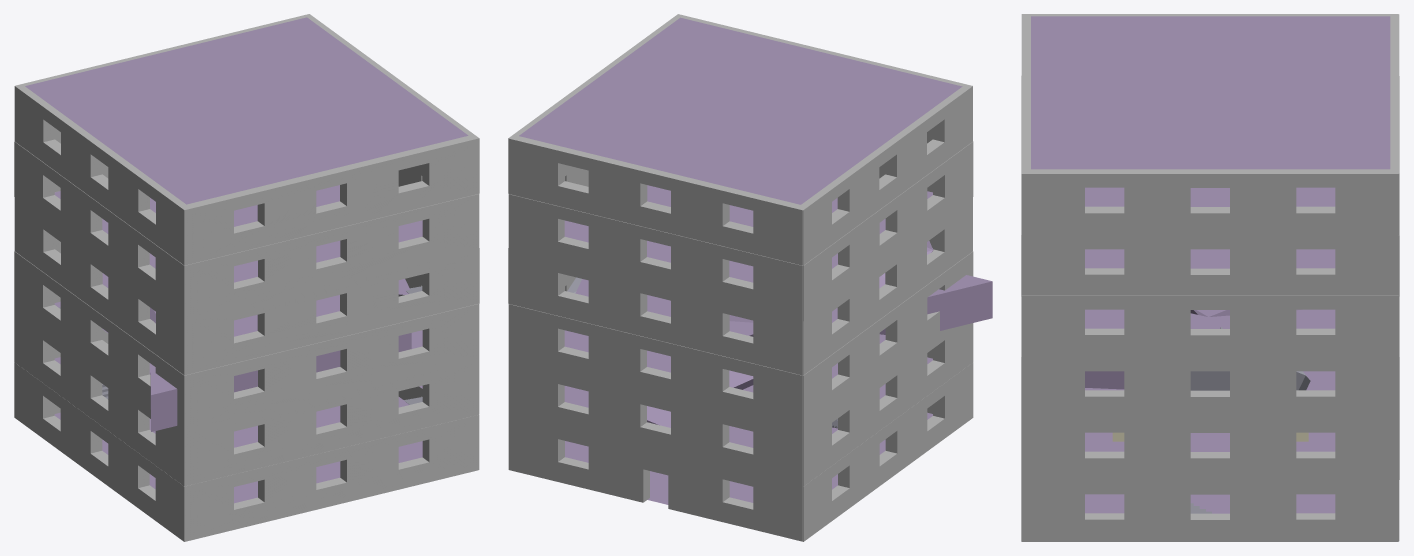
3 views of the same model, side by side, from view 1: azimuth 30°, elevation 25°; view 2: azimuth 150°, elevation 25°; view 3: azimuth 270°, elevation 25° (orthographic). The views are drawn at different scales.
Parts seen in each view (by area): view 1: pasted__pasted__pasted__pasted__Wall37 (×4), Floor8, pasted__pasted__pasted__pasted__pasted__Wall37 (×3), pasted__pasted__pasted__Wall37 (×3), pasted__pasted__pasted__pasted__pasted__pasted__Wall37, pasted__pasted__Wall37 (×2), cornerBLock, Floor7, Floor, pasted__Wall37, Floor4, floor5_Floor6; view 2: Floor8, pasted__pasted__Wall37 (×4), pasted__Wall37 (×2), pasted__pasted__pasted__pasted__Wall37 (×3), pasted__pasted__pasted__Wall37 (×2), Wall24, Wall37, pasted__pasted__pasted__pasted__pasted__Wall37, cornerBLock, Floor7, Floor, Floor5 (+2 smaller); view 3: Floor8, pasted__pasted__Wall37 (×2), pasted__pasted__pasted__Wall37 (×3), pasted__Wall37 (×2), pasted__pasted__pasted__pasted__Wall37 (×2), Floor7, Floor, Floor4, floor5_Floor6, cornerBLock, pCube1, Floor5.
Part boxes in pixels (<box>): pasted__pasted__pasted__pasted__Wall37 (×4): <box>14,134,478,486</box>; Floor8: <box>25,17,468,204</box>; pasted__pasted__pasted__pasted__pasted__Wall37 (×3): <box>14,194,478,541</box>; pasted__pasted__pasted__Wall37 (×3): <box>14,83,478,430</box>; pasted__pasted__pasted__pasted__pasted__pasted__Wall37: <box>184,415,478,541</box>; pasted__pasted__Wall37 (×2): <box>14,14,479,375</box>; cornerBLock: <box>150,295,411,431</box>; Floor7: <box>54,185,422,282</box>; Floor: <box>54,412,422,503</box>; pasted__Wall37: <box>16,14,314,137</box>; Floor4: <box>54,357,422,447</box>; floor5_Floor6: <box>102,273,409,336</box>; Floor8: <box>519,17,962,204</box>; pasted__pasted__Wall37 (×4): <box>508,14,972,486</box>; pasted__Wall37 (×2): <box>508,134,808,430</box>; pasted__pasted__pasted__pasted__Wall37 (×3): <box>673,15,973,486</box>; pasted__pasted__pasted__Wall37 (×2): <box>792,86,973,430</box>; Wall24: <box>508,415,802,541</box>; Wall37: <box>508,250,802,375</box>; pasted__pasted__pasted__pasted__pasted__Wall37: <box>803,362,973,541</box>; cornerBLock: <box>879,275,992,334</box>; Floor7: <box>564,185,932,282</box>; Floor: <box>565,412,932,504</box>; Floor5: <box>564,330,885,392</box>; Floor8: <box>1031,16,1390,169</box>; pasted__pasted__Wall37 (×2): <box>1021,167,1398,418</box>; pasted__pasted__pasted__Wall37 (×3): <box>1021,14,1398,480</box>; pasted__Wall37 (×2): <box>1021,14,1399,357</box>; pasted__pasted__pasted__pasted__Wall37 (×2): <box>1021,14,1398,541</box>; Floor7: <box>1085,187,1335,268</box>; Floor: <box>1085,494,1335,513</box>; Floor4: <box>1085,432,1335,451</box>; floor5_Floor6: <box>1089,309,1335,328</box>; cornerBLock: <box>1085,309,1124,389</box>; pCube1: <box>1190,327,1310,390</box>; Floor5: <box>1085,371,1335,390</box>.
Size of the model in its own units: 27.34 by 27.03 by 25.08.
